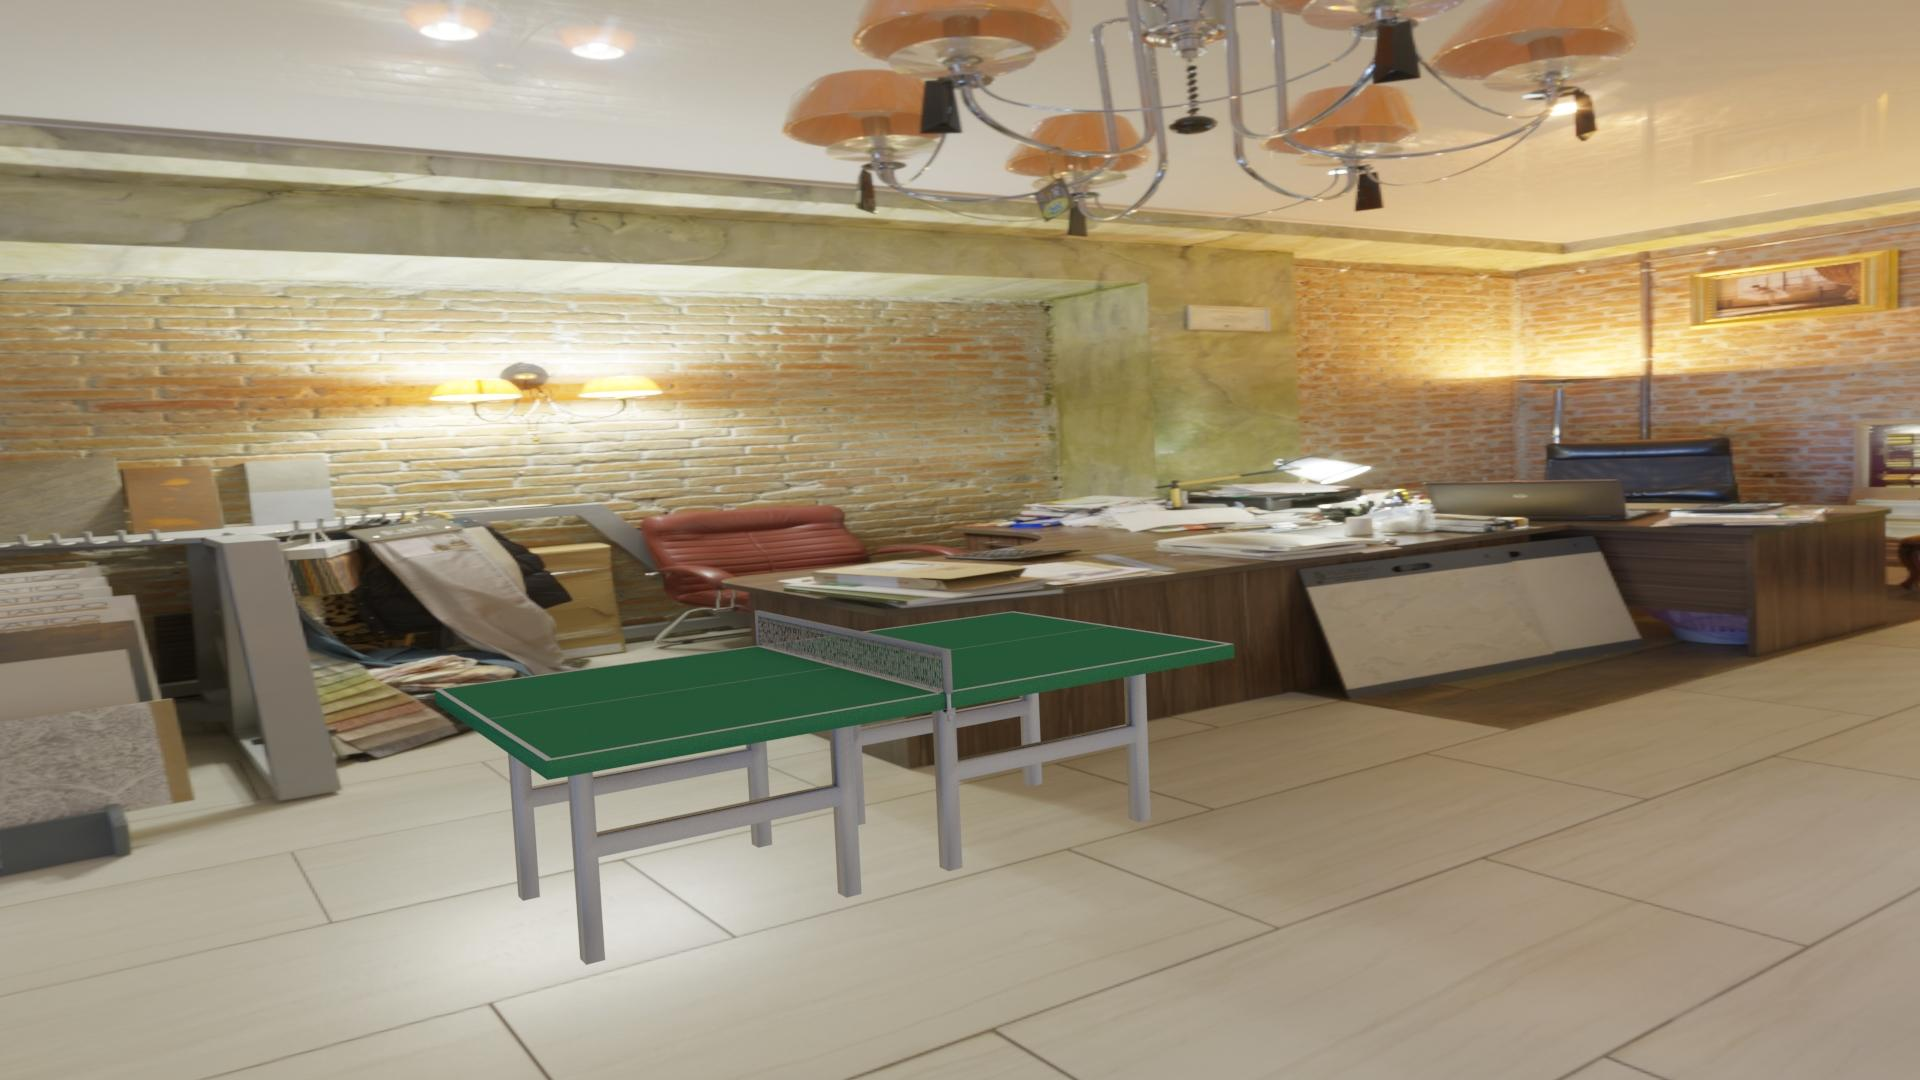table: (440, 612, 1226, 758)
